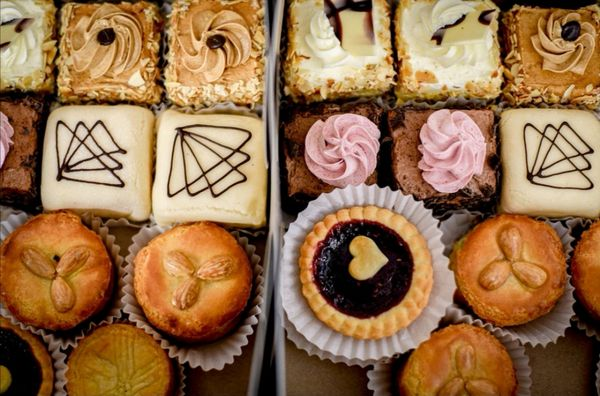salad: (298, 205, 435, 339), (131, 221, 254, 345), (153, 110, 268, 234), (0, 210, 116, 332), (39, 105, 156, 224), (448, 213, 568, 327), (281, 0, 396, 105), (162, 1, 268, 112), (397, 322, 517, 393), (65, 323, 173, 395), (0, 322, 55, 394), (570, 219, 600, 341)
sushi: (390, 0, 504, 105), (390, 108, 500, 216)
